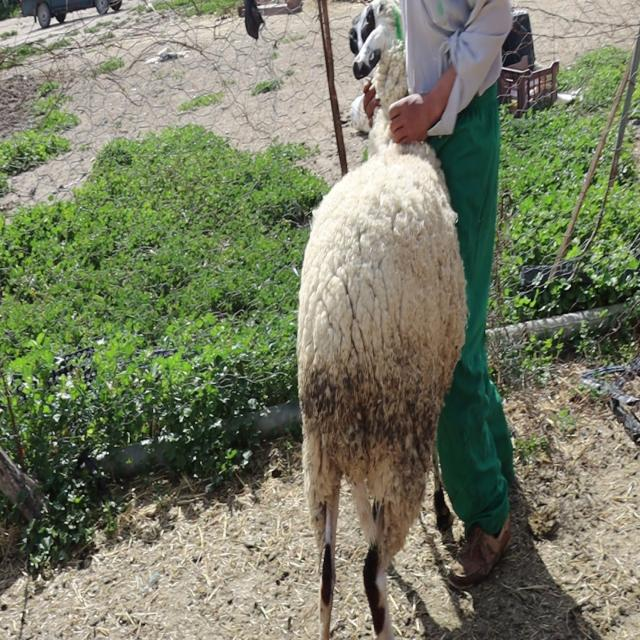Score_5: (297, 0, 466, 639)
